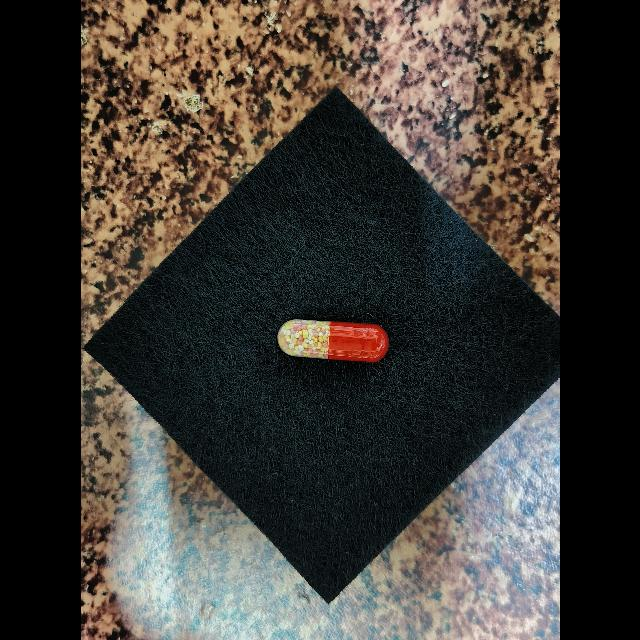Intact Capsule: (277, 319, 388, 362)
